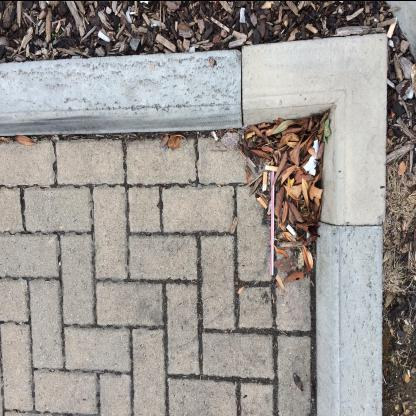plastik: (272, 171, 276, 276)
